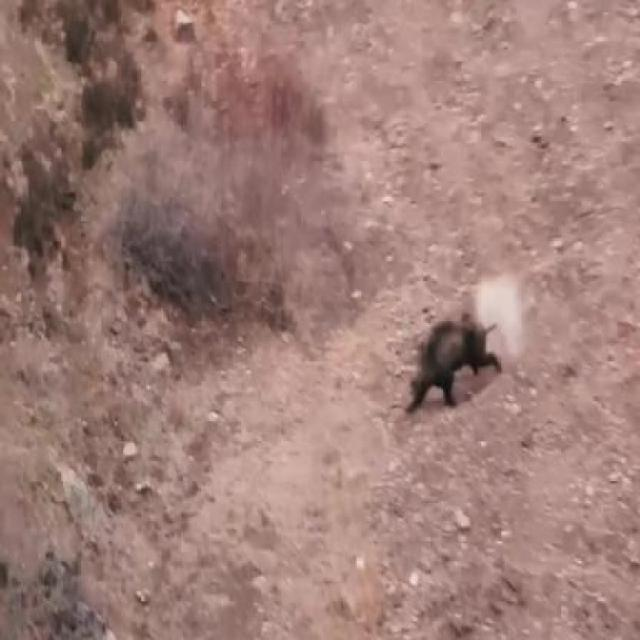pig: (405, 297, 497, 435)
